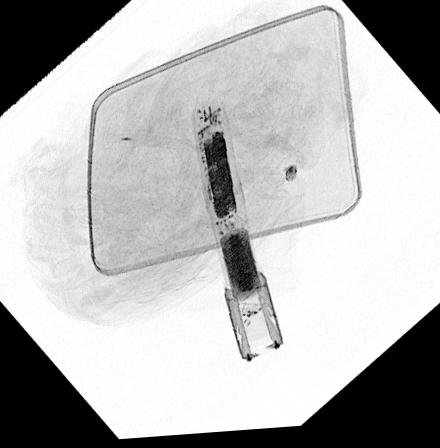Baton: (189, 101, 283, 365)
